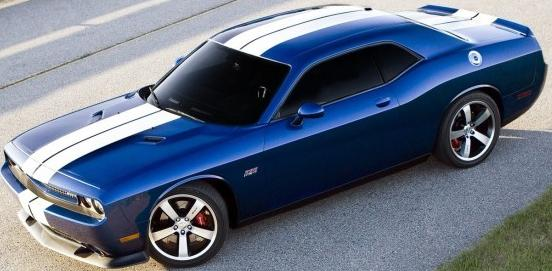front_view: (5, 142, 115, 260)
headlight: (62, 183, 113, 224)
side_glass: (287, 52, 423, 101)
